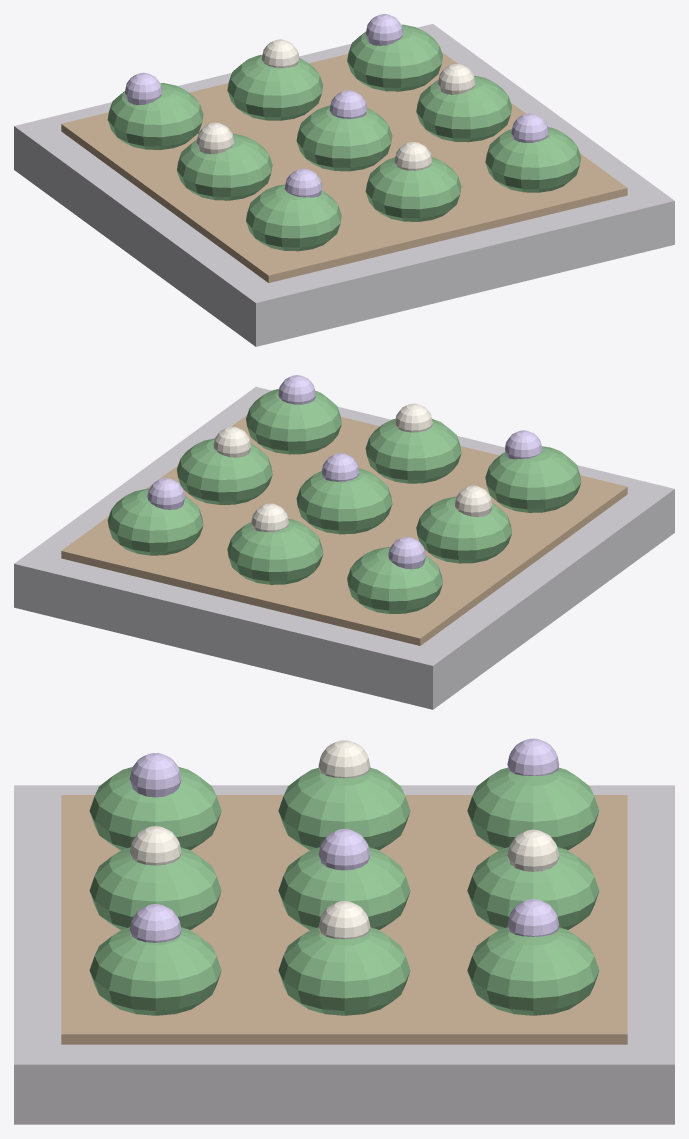
Rendered from LavenderFlowerBed.glb.
3 views of the same model, one above another, from view 1: azimuth 30°, elevation 25°; view 2: azimuth 150°, elevation 25°; view 3: azimuth 270°, elevation 25° (orthographic). The views are drawn at different scales.
Visible parts, largest first — view 1: LavenderFlowerBed_2, LavenderFlowerBed_0, LavenderFlowerBed_1, LavenderFlowerBed_3, LavenderFlowerBed_4; view 2: LavenderFlowerBed_2, LavenderFlowerBed_0, LavenderFlowerBed_1, LavenderFlowerBed_3, LavenderFlowerBed_4; view 3: LavenderFlowerBed_2, LavenderFlowerBed_0, LavenderFlowerBed_1, LavenderFlowerBed_3, LavenderFlowerBed_4.
Boxes of the visible parts, bbox=[...] form: LavenderFlowerBed_2: bbox=[14, 24, 674, 346]; LavenderFlowerBed_0: bbox=[107, 24, 581, 251]; LavenderFlowerBed_1: bbox=[61, 52, 627, 282]; LavenderFlowerBed_3: bbox=[125, 14, 548, 197]; LavenderFlowerBed_4: bbox=[196, 39, 475, 170]; LavenderFlowerBed_2: bbox=[14, 386, 674, 709]; LavenderFlowerBed_0: bbox=[107, 389, 581, 613]; LavenderFlowerBed_1: bbox=[61, 415, 627, 645]; LavenderFlowerBed_3: bbox=[147, 375, 542, 569]; LavenderFlowerBed_4: bbox=[213, 403, 492, 532]; LavenderFlowerBed_2: bbox=[14, 785, 674, 1124]; LavenderFlowerBed_0: bbox=[89, 767, 599, 1015]; LavenderFlowerBed_1: bbox=[61, 795, 627, 1044]; LavenderFlowerBed_3: bbox=[129, 738, 559, 942]; LavenderFlowerBed_4: bbox=[129, 740, 559, 939].
Size of the model in its own units: 7 by 1.82 by 7.
